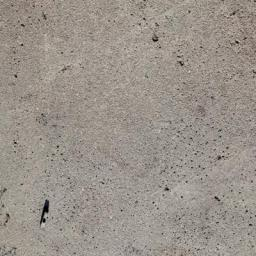FOD: (40, 199, 54, 231)
